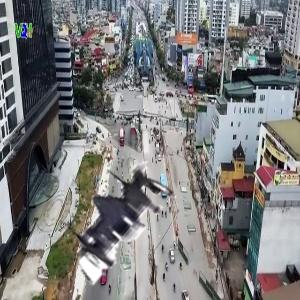drone: (43, 138, 205, 300)
